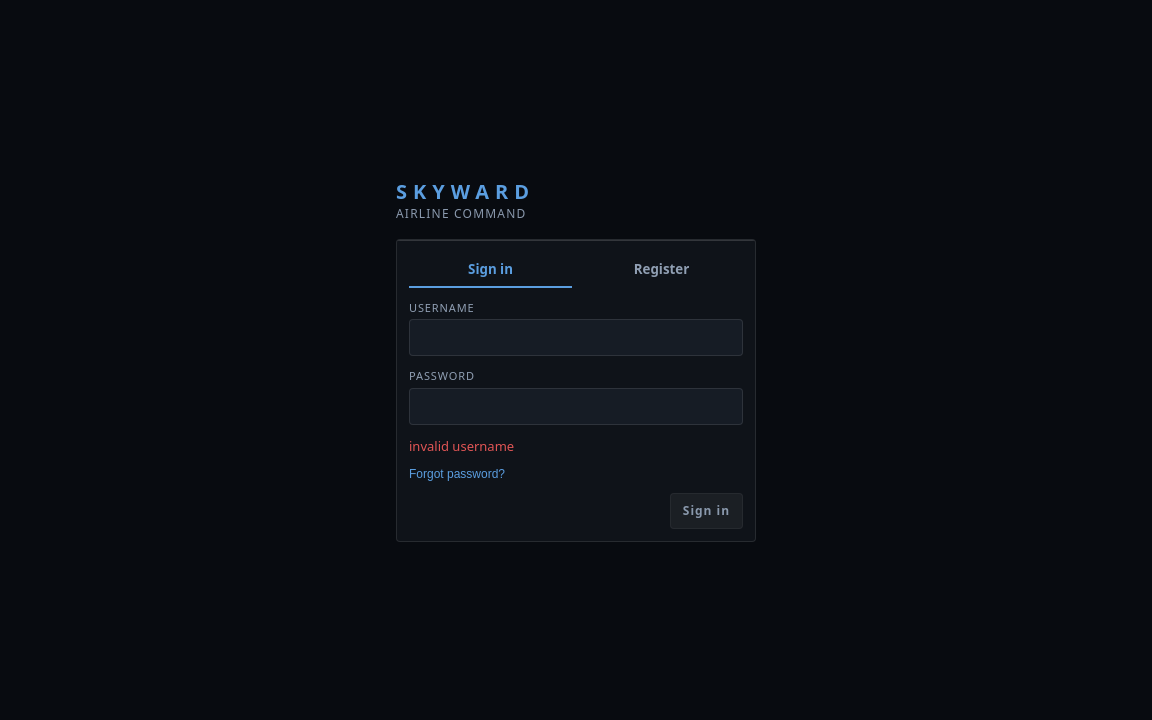
halaman login — dialog reset password › melaporkan kegagalan sebagai alert, bukan sebagai sukses hijau
Click the button "Forgot password?": (457, 474) [409,467,505,481]
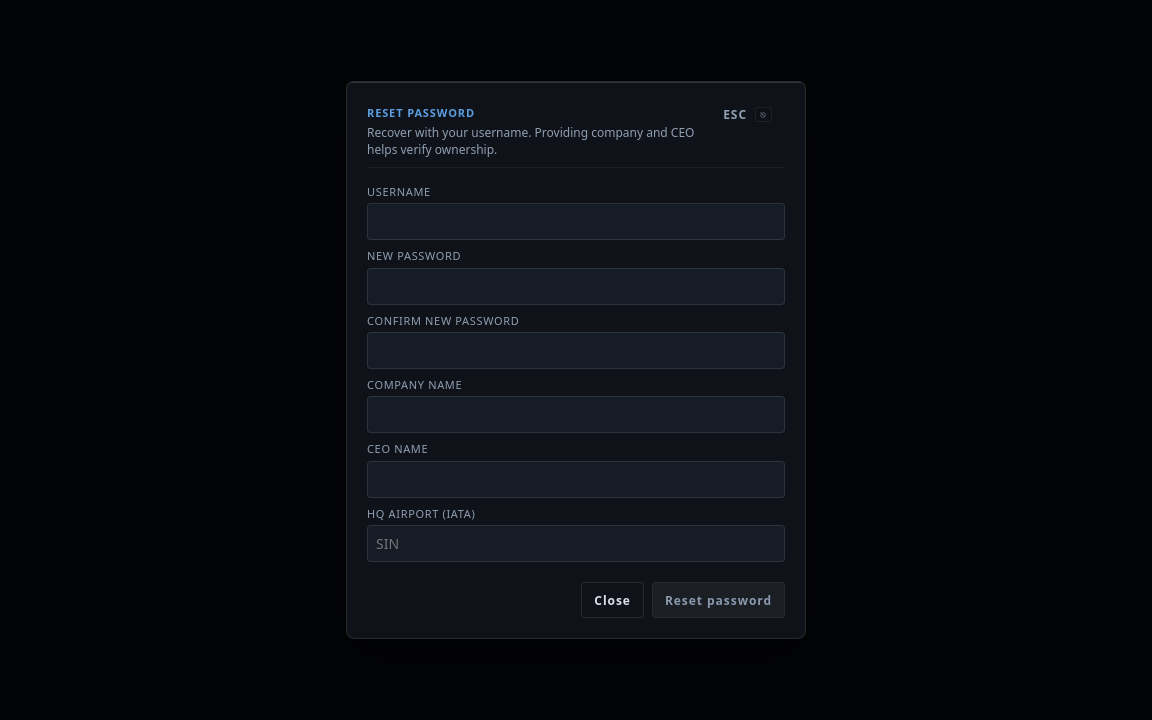
In the field labelled "Username": (576, 222) [367,203,785,240], type "pilot"
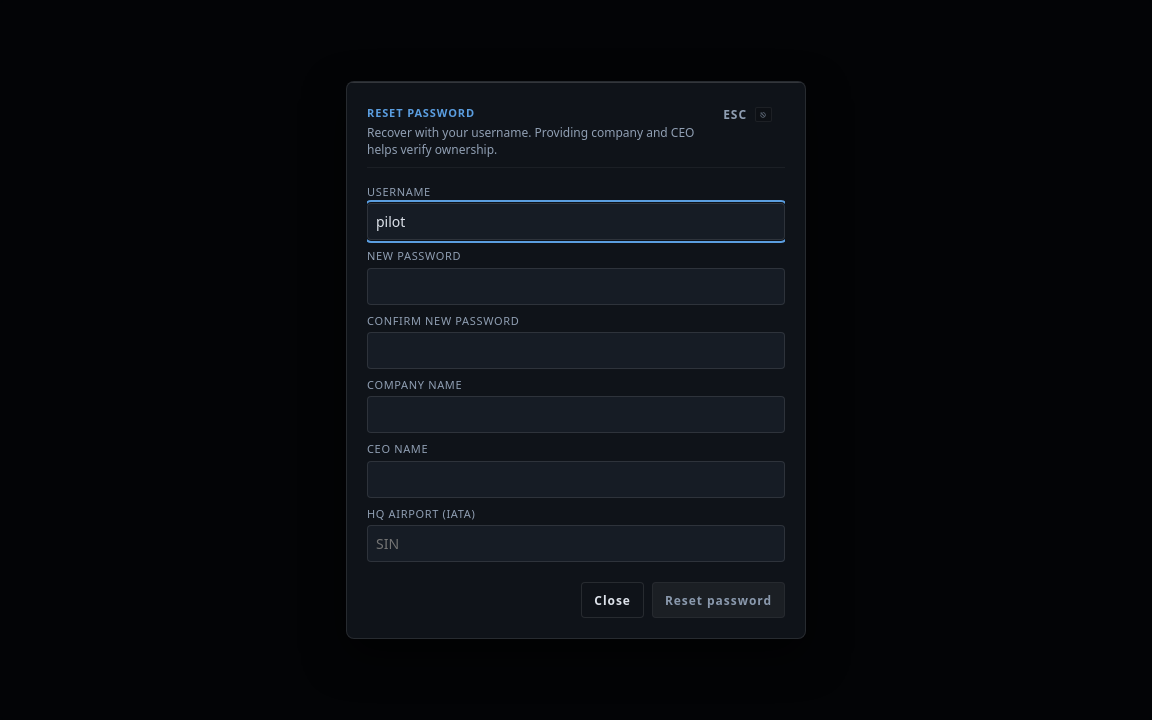
In the password field labelled "New password": (576, 286) [367,268,785,305], type "newpass123"
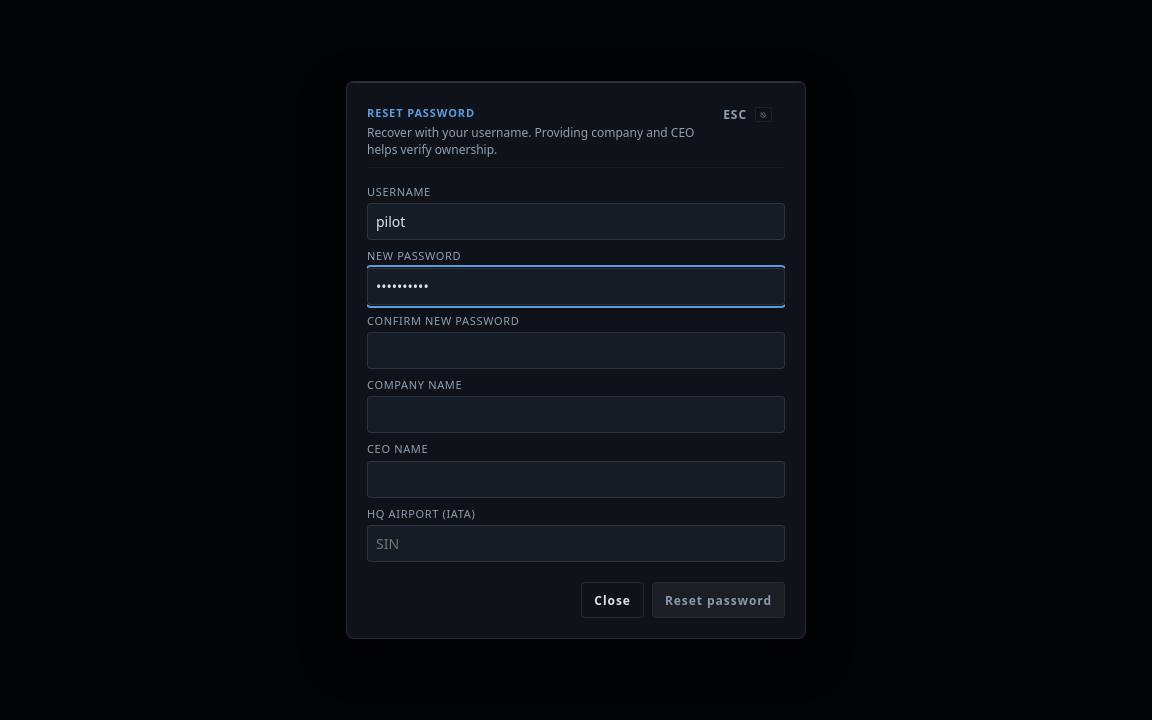
In the password field labelled "Confirm new password": (576, 351) [367,332,785,369], type "newpass123"
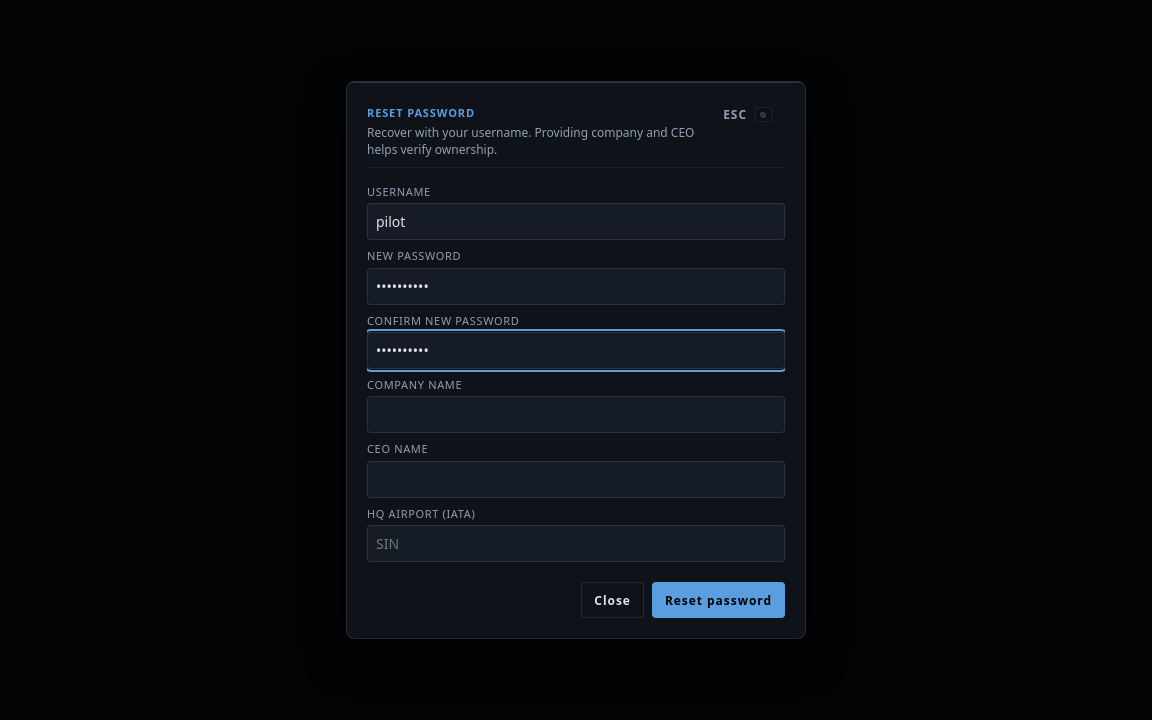
Click the button "Reset password": (718, 600) [652,582,785,618]
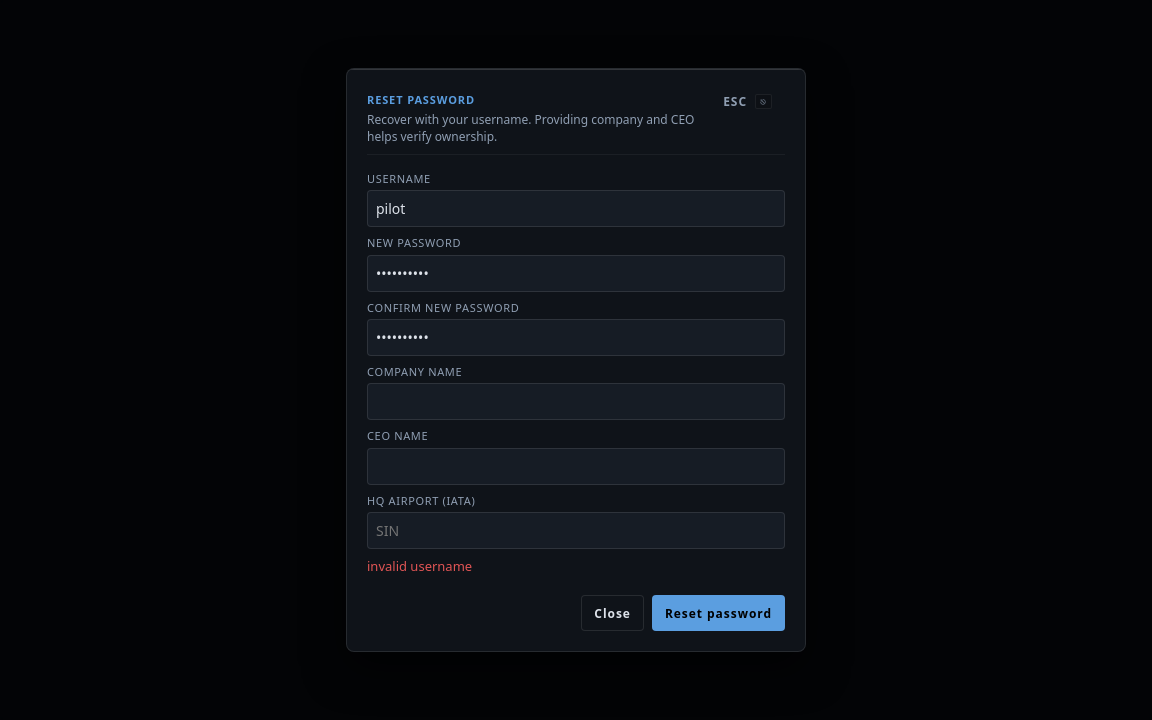
Check: the message reads "invalid username", box [367,557,472,575]
